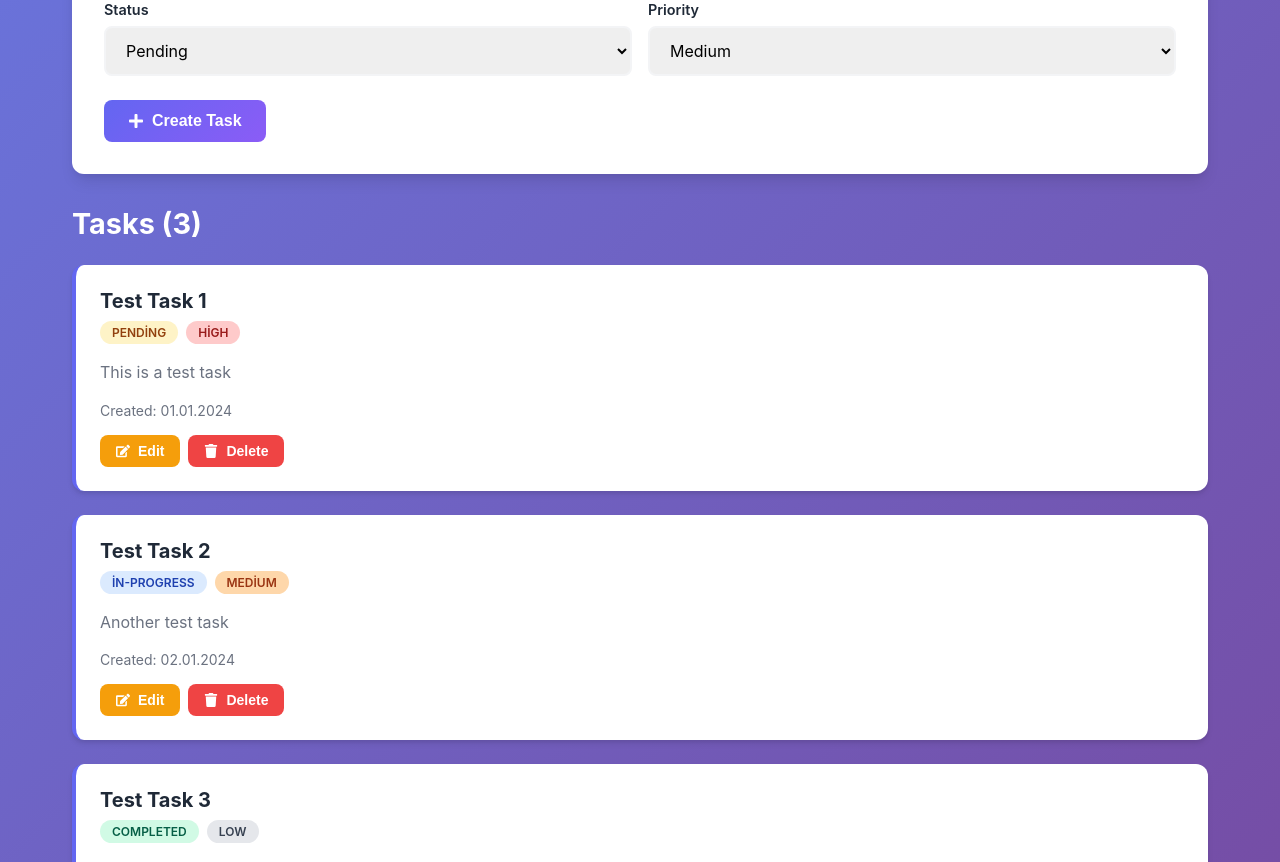
Test case: App Component Tests › Delete Task Functionality › should show error when delete fails
(page scrolled)
Step 1. Click the button "Delete" below "01.01.2024" → (236, 451), box x1=188 y1=435 x2=284 y2=467
(page scrolled)
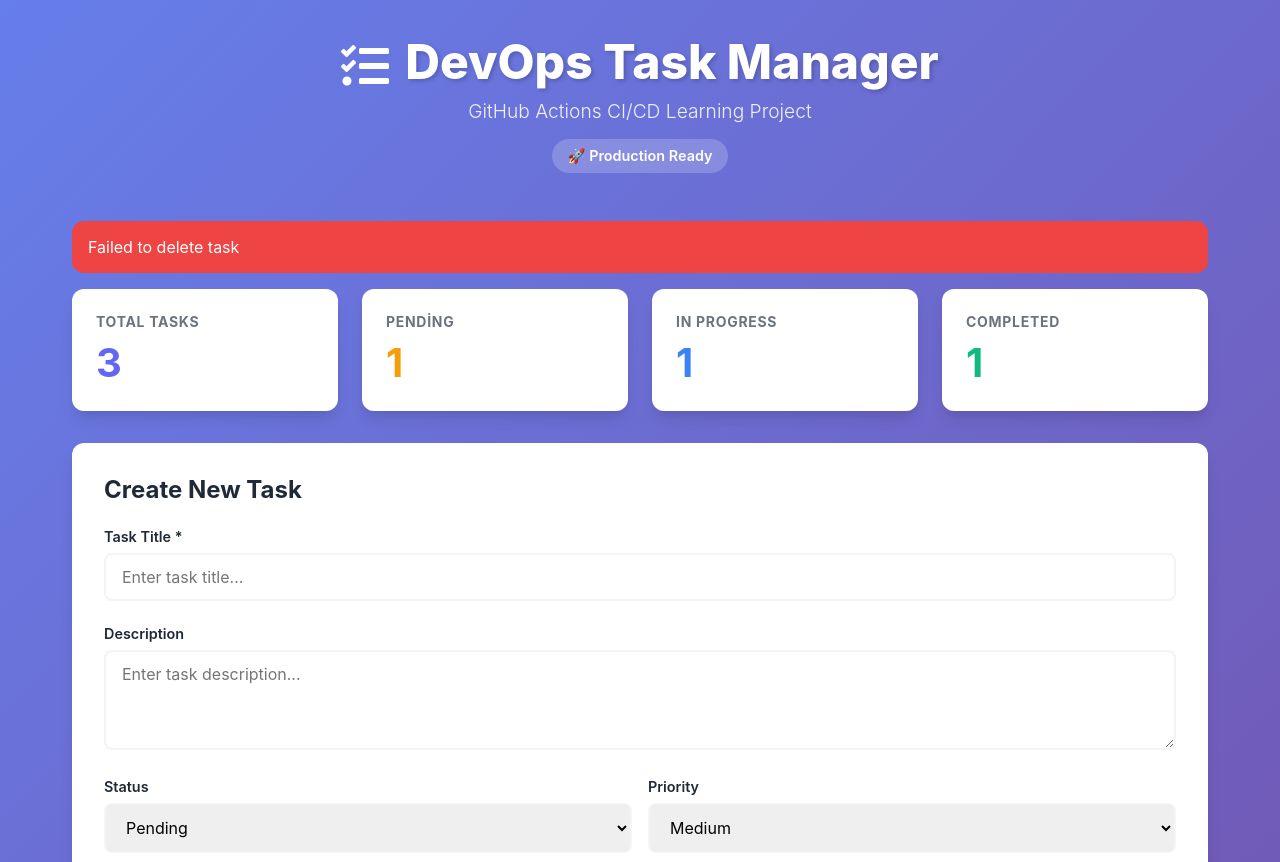
Check: the text "Failed to delete task" is shown, box x1=72 y1=221 x2=1208 y2=273
